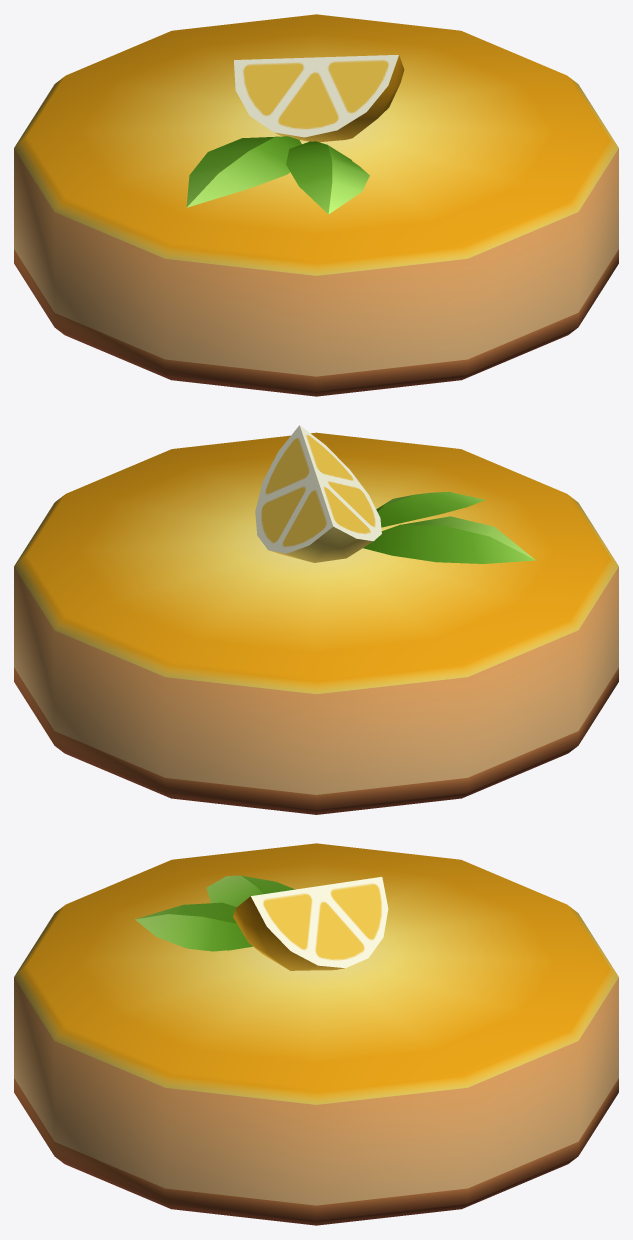
Rendered from m_CheeseCake05.fbx.
3 renders of one model, top to bottom at view 1: azimuth 30°, elevation 25°; view 2: azimuth 150°, elevation 25°; view 3: azimuth 270°, elevation 25°, orthographic.
Parts seen in each view (by area): view 1: m_CheeseCake05; view 2: m_CheeseCake05; view 3: m_CheeseCake05.
Boxes of the visible parts, box(x1,y1,x2,y2) form: m_CheeseCake05: box(14, 14, 618, 396); m_CheeseCake05: box(14, 425, 618, 814); m_CheeseCake05: box(14, 843, 618, 1225).
Size of the model in its own units: 28 by 11.79 by 28.
